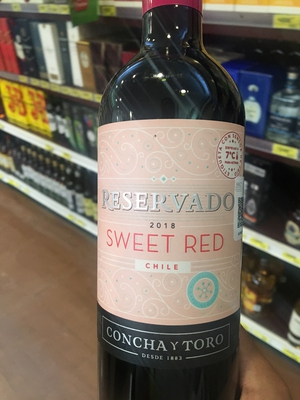reservado sweet red: (92, 17, 258, 396)
